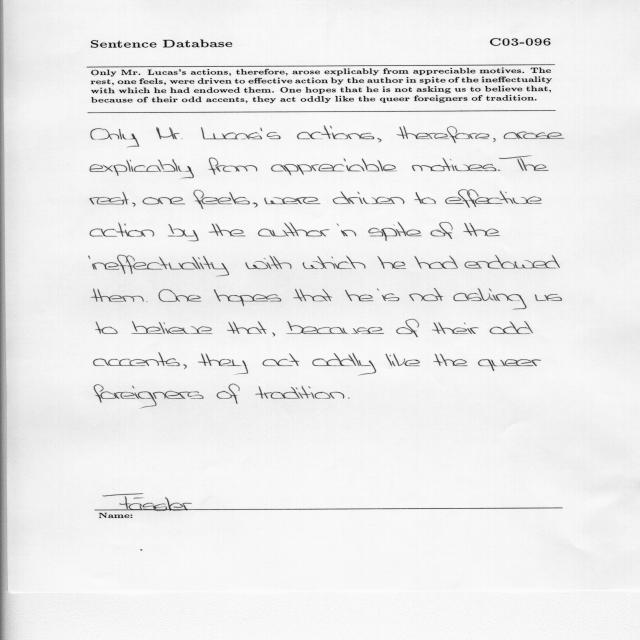word: (89, 255, 229, 276), (94, 385, 204, 409), (271, 159, 397, 176), (90, 159, 194, 178), (445, 189, 541, 208), (453, 288, 527, 310), (397, 126, 490, 143), (313, 353, 377, 376), (464, 255, 560, 269), (287, 321, 384, 334), (255, 386, 344, 399), (214, 290, 281, 307), (94, 353, 180, 366), (412, 158, 496, 171), (193, 190, 250, 209), (368, 221, 422, 241), (258, 222, 329, 237), (132, 321, 213, 334), (198, 354, 248, 375), (297, 126, 374, 139), (201, 128, 281, 140), (333, 191, 405, 204), (91, 128, 139, 147), (90, 223, 154, 237), (209, 157, 258, 175), (303, 256, 366, 269), (478, 359, 541, 371), (499, 156, 549, 171), (91, 289, 144, 302), (245, 256, 292, 270), (415, 255, 459, 269), (432, 322, 479, 334), (490, 321, 533, 334), (159, 289, 201, 302), (168, 224, 199, 241), (227, 321, 266, 334), (90, 192, 128, 205), (209, 224, 246, 237), (463, 223, 500, 236), (504, 131, 564, 139), (294, 289, 333, 301), (217, 384, 240, 404), (263, 354, 300, 366), (409, 288, 443, 301), (385, 354, 420, 366), (396, 319, 419, 337), (434, 354, 468, 366), (264, 197, 320, 204), (431, 222, 453, 239), (378, 256, 406, 269), (156, 127, 183, 139), (345, 290, 373, 301), (143, 197, 186, 204), (377, 289, 399, 302), (96, 321, 118, 334), (414, 192, 436, 204), (337, 224, 356, 237), (535, 294, 562, 301), (253, 203, 258, 208), (183, 365, 187, 370), (378, 138, 382, 142), (133, 202, 136, 207), (493, 138, 496, 142), (272, 333, 275, 337), (348, 397, 350, 399), (498, 170, 500, 171), (147, 301, 148, 302)
